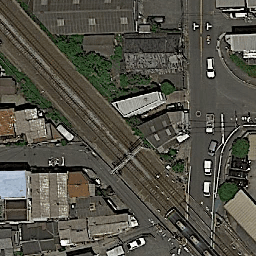car: (127, 236, 148, 251), (204, 56, 217, 80), (204, 112, 215, 135), (207, 138, 218, 157), (202, 179, 212, 198), (228, 10, 247, 20), (203, 159, 212, 175)
